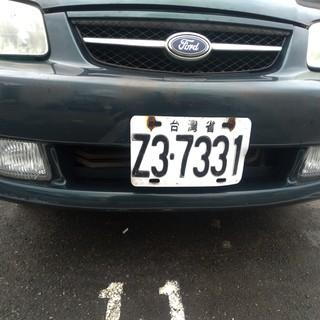license: (124, 126, 249, 192)
